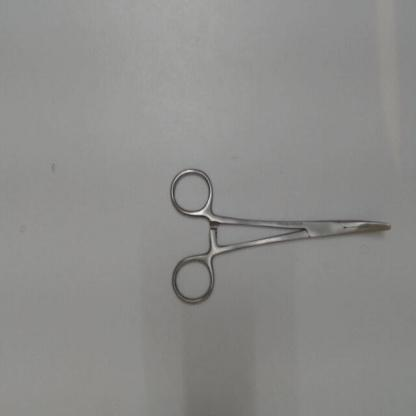Crile Artery Forceps: (167, 158, 402, 306)
